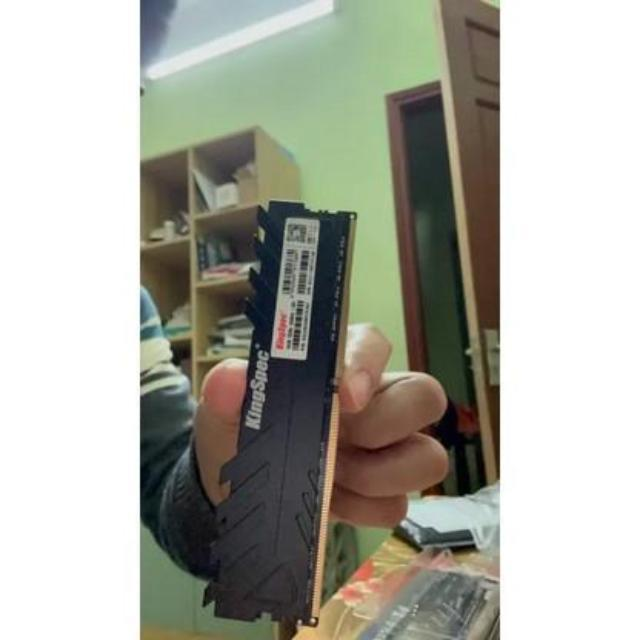RAM: (223, 198, 357, 627)
